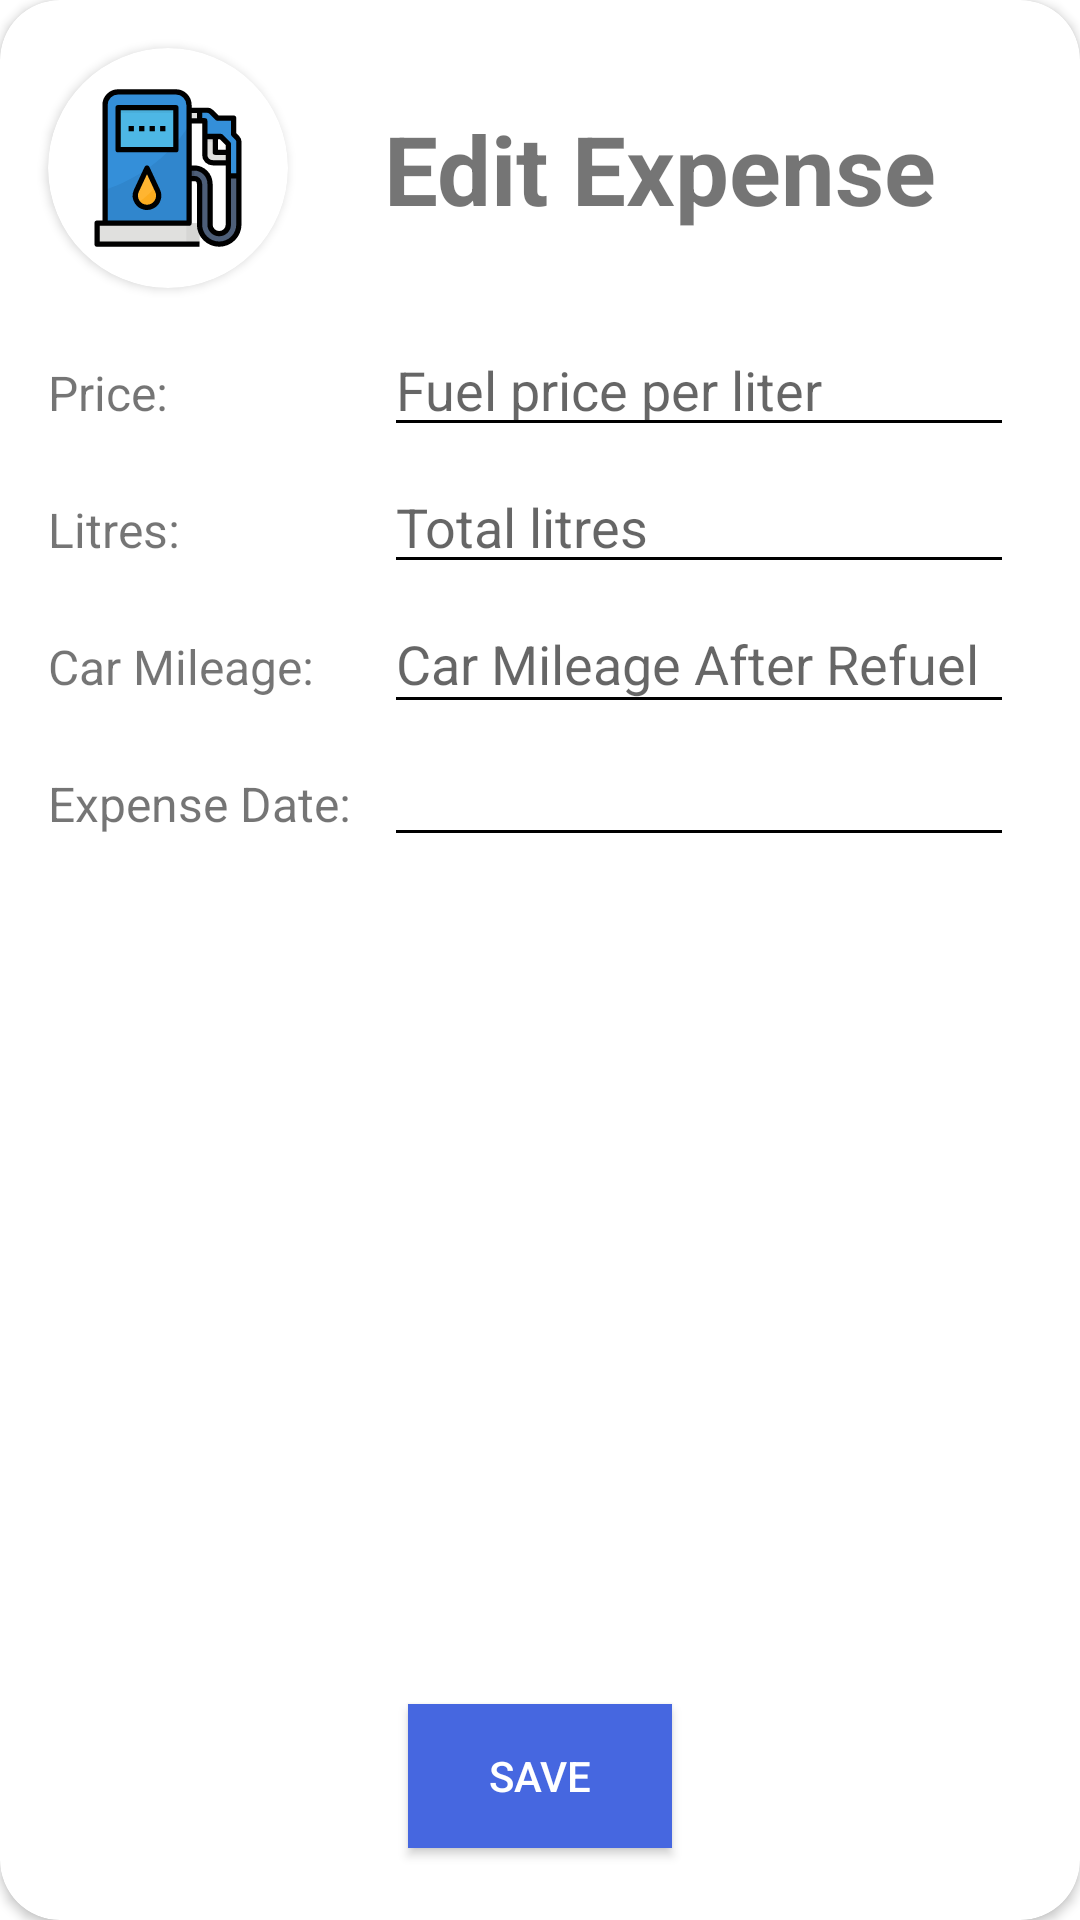

Named icons in this screenshot (1080w x 1920h) and their centers, (x=x, y=y):
gas: (x=145, y=168)
